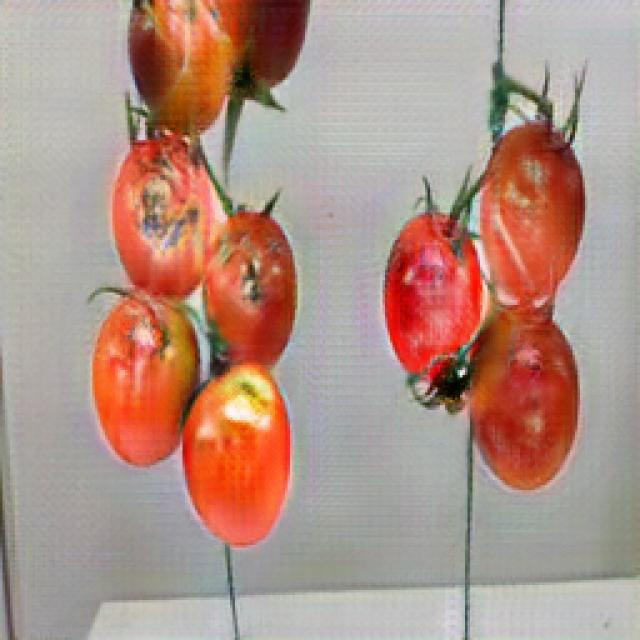overripe tomato: (465, 311, 594, 491), (478, 130, 604, 303), (179, 364, 296, 547), (92, 294, 195, 468), (384, 207, 478, 384), (204, 205, 304, 358), (111, 137, 207, 296), (124, 0, 231, 132)
